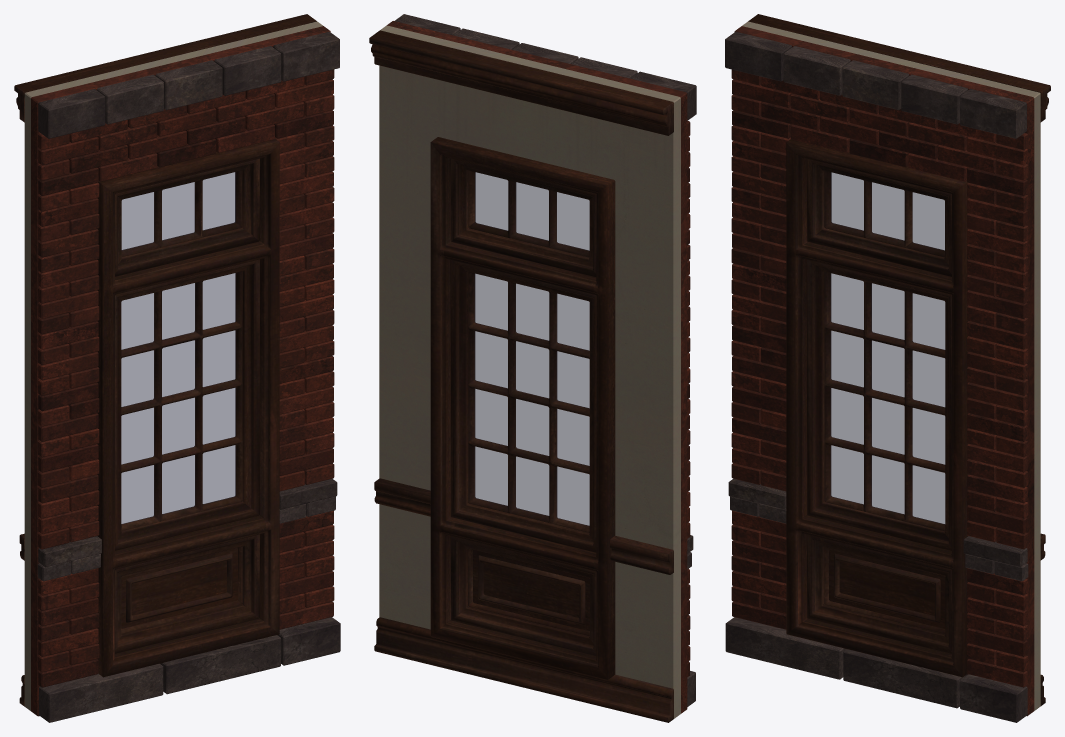
The model's file is SK1 WINDOW1.fbx.
3 renders of one model, left to right at view 1: azimuth 30°, elevation 25°; view 2: azimuth 150°, elevation 25°; view 3: azimuth 330°, elevation 25°, orthographic.
Parts seen in each view (by area): view 1: SK1 WINDOW1; view 2: SK1 WINDOW1; view 3: SK1 WINDOW1.
Boxes of the visible parts, x1,y1,x2,y2 form: SK1 WINDOW1: (14,14,340,722); SK1 WINDOW1: (369,14,696,722); SK1 WINDOW1: (725,14,1050,722).
Size of the model in its own units: 200 by 400 by 39.92.
